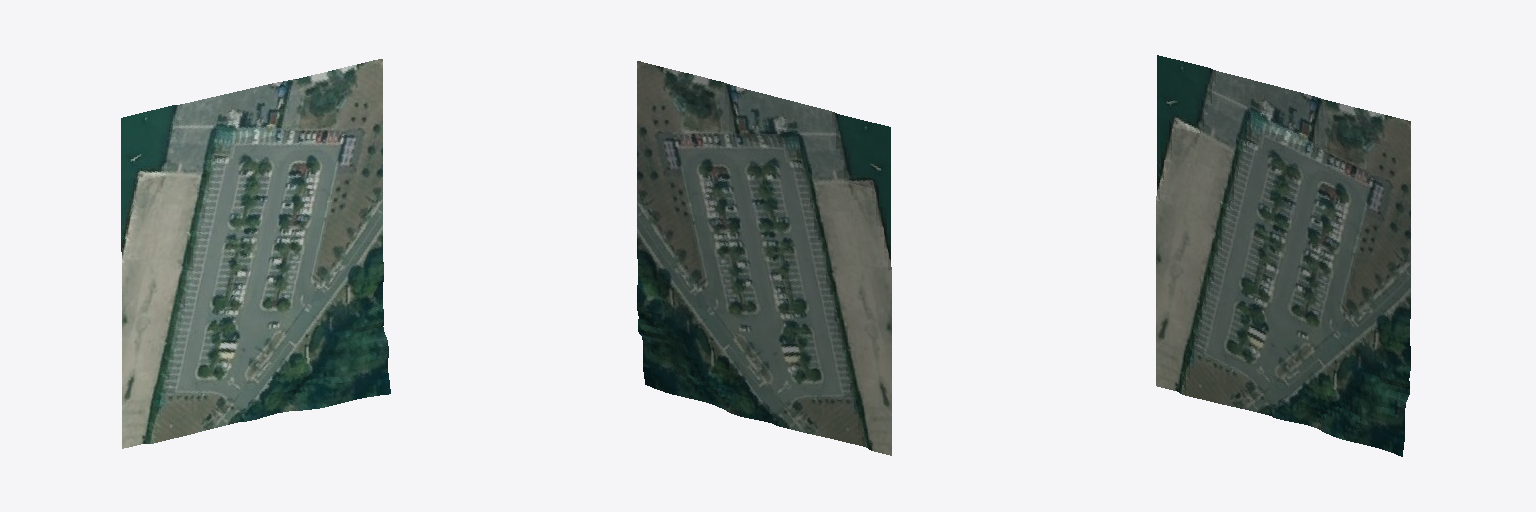
3 views of the same model, side by side, from view 1: azimuth 30°, elevation 25°; view 2: azimuth 150°, elevation 25°; view 3: azimuth 330°, elevation 25° (orthographic).
Parts seen in each view (by area): view 1: 281396_113919; view 2: 281396_113919; view 3: 281396_113919.
Part boxes in pixels (bbox=[...]): 281396_113919: bbox=[121, 59, 390, 448]; 281396_113919: bbox=[637, 61, 891, 455]; 281396_113919: bbox=[1156, 55, 1410, 456].
Bounding box in the file's own units: 122 × 150 × 10.28.
Materials: 1 (1 with a texture image).